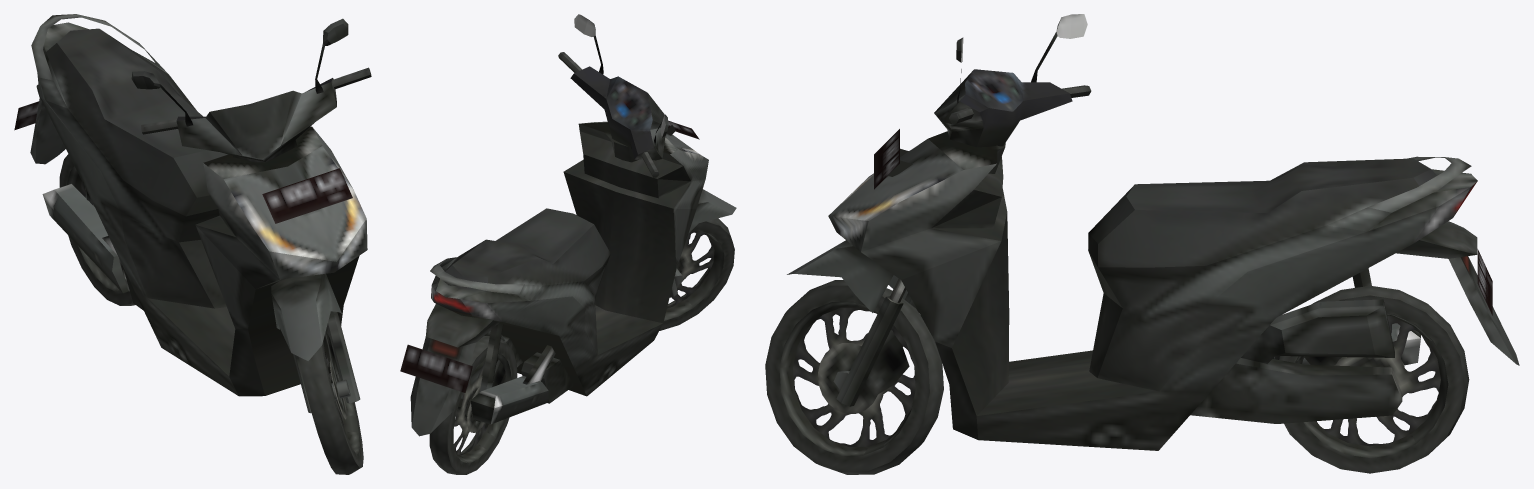
The model's file is scooter.glb.
3 renders of one model, left to right at view 1: azimuth 30°, elevation 25°; view 2: azimuth 150°, elevation 25°; view 3: azimuth 270°, elevation 25°, orthographic. The views are drawn at different scales.
Visible parts, largest first — view 1: body.vario_var_0; view 2: body.vario_var_0; view 3: body.vario_var_0.
Boxes of the visible parts, x1,y1,x2,y2 form: body.vario_var_0: (14, 14, 371, 474); body.vario_var_0: (400, 14, 736, 474); body.vario_var_0: (765, 14, 1519, 474).
Bounding box in the file's own units: 0.6744 × 1.4 × 2.09.
1 material, 1 textured.
